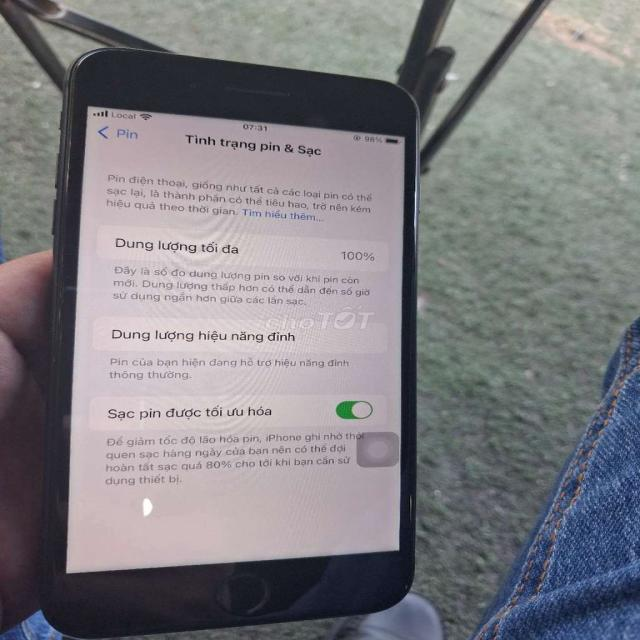gen_7_8: (38, 40, 423, 631)
